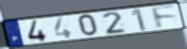0: (77, 13, 101, 38)
1: (131, 8, 148, 33)
2: (102, 11, 129, 36)
4: (27, 19, 49, 43), (55, 16, 74, 40)
F: (150, 4, 178, 30)
